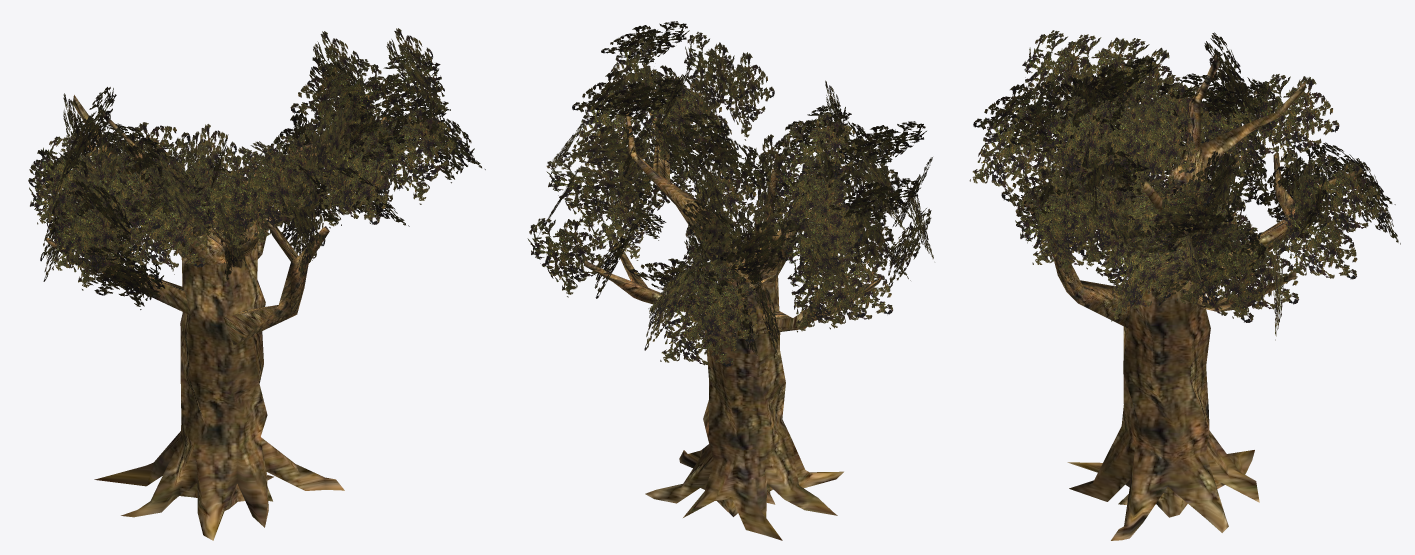
Rendered from Tree02.obj.
3 views of the same model, side by side, from view 1: azimuth 30°, elevation 25°; view 2: azimuth 150°, elevation 25°; view 3: azimuth 270°, elevation 25° (orthographic). The views are drawn at different scales.
Visible parts, largest first — view 1: Mesh_1, Mesh_0; view 2: Mesh_1, Mesh_0; view 3: Mesh_1, Mesh_0.
Part boxes in pixels (x1,y1,x2,y2): Mesh_1: [28, 28, 485, 309]; Mesh_0: [45, 91, 386, 540]; Mesh_1: [527, 21, 933, 366]; Mesh_0: [583, 111, 880, 540]; Mesh_1: [969, 30, 1400, 340]; Mesh_0: [1023, 55, 1364, 540].
Size of the model in its own units: 8.45 by 8.99 by 7.4.
Materials: 2 (2 with a texture image).
